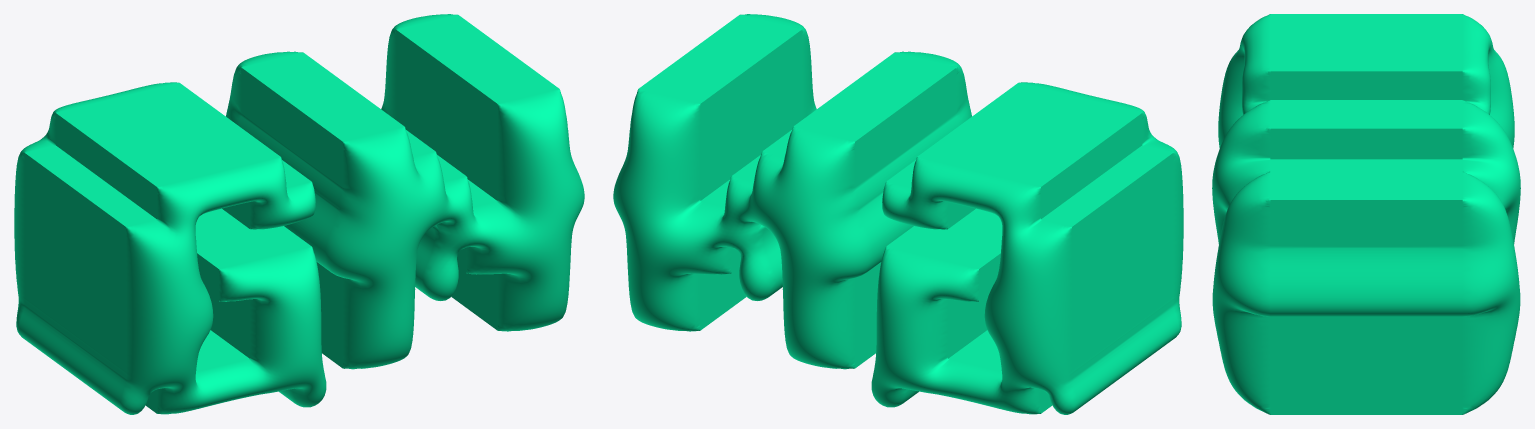
Rendered from GN-Snot.gltf.
The picture shows the model from 3 angles, left to right: view 1: azimuth 30°, elevation 25°; view 2: azimuth 150°, elevation 25°; view 3: azimuth 270°, elevation 25°; orthographic projection. The views are drawn at different scales.
Size of the model in its own units: 0.0442 by 0.0236 by 0.0273.
